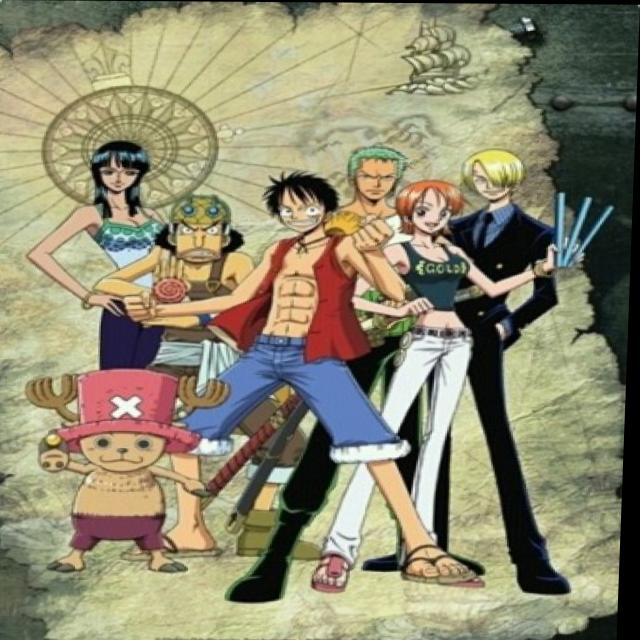Chyopa: (13, 362, 236, 585)
Luffy: (257, 168, 344, 240)
Nami: (374, 177, 475, 235)
NicoRobin: (61, 139, 175, 233)
Sangdi: (450, 141, 540, 207)
Usopp: (153, 195, 254, 267)
Zoro: (333, 144, 411, 213)
